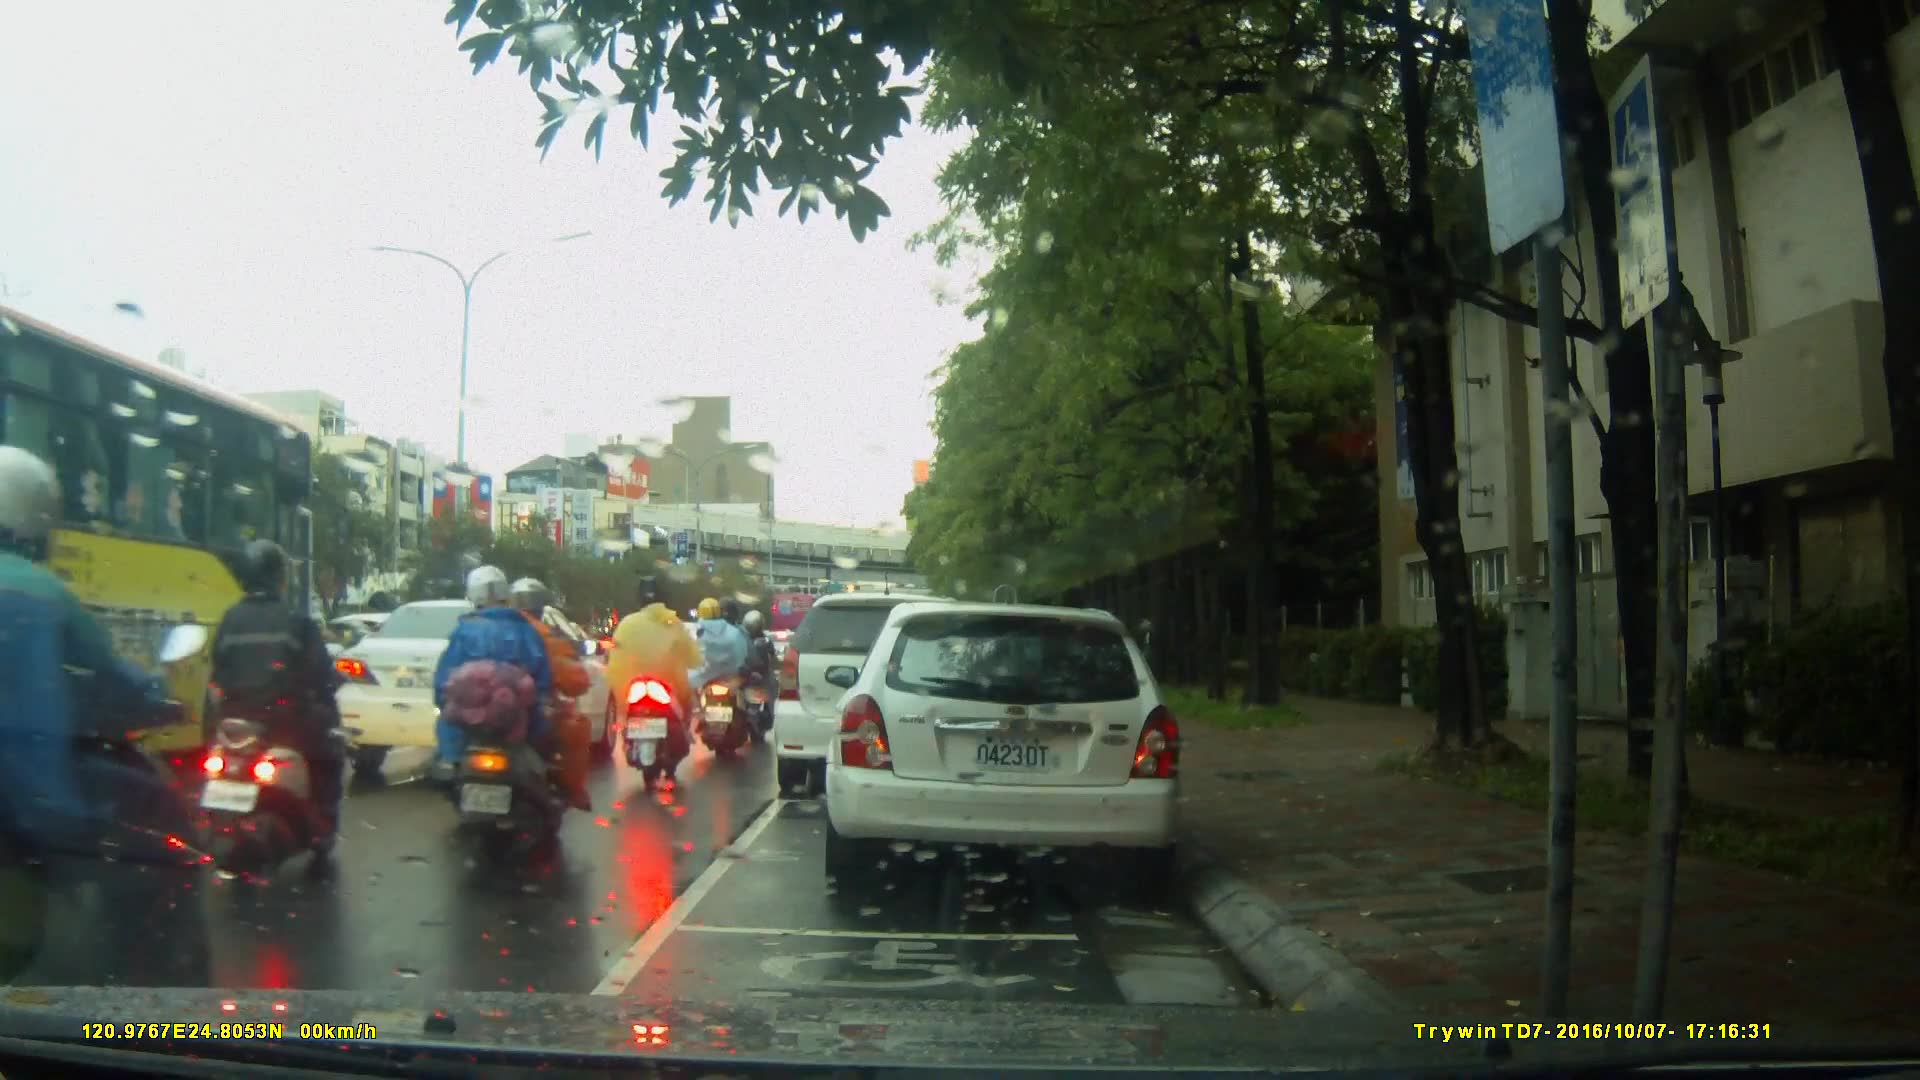rider: (1, 467, 240, 1026), (176, 536, 348, 877), (434, 571, 595, 850), (592, 567, 700, 789), (694, 593, 755, 750), (728, 612, 782, 739)
vehicle: (1, 300, 326, 829), (835, 594, 1194, 898), (338, 598, 625, 787), (776, 590, 1026, 784)
